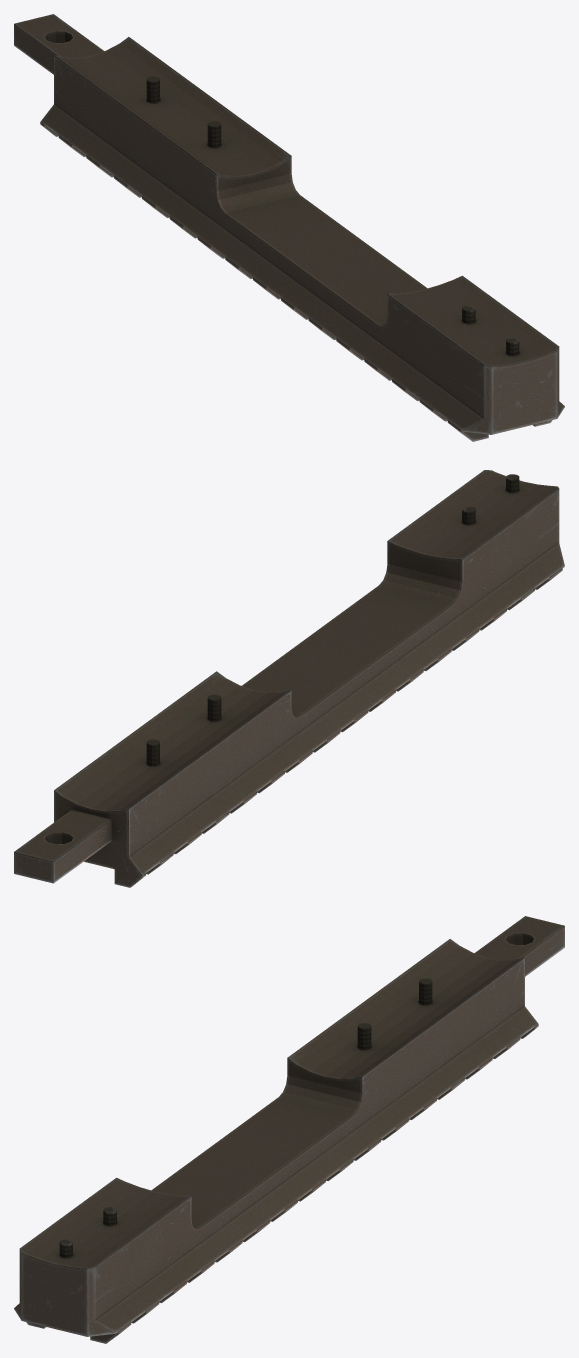
3 renders of one model, top to bottom at view 1: azimuth 30°, elevation 25°; view 2: azimuth 150°, elevation 25°; view 3: azimuth 330°, elevation 25°, orthographic.
Parts seen in each view (by area): view 1: TW_5cde7b43d7f00c000d36b93e_PZ_Import; view 2: TW_5cde7b43d7f00c000d36b93e_PZ_Import; view 3: TW_5cde7b43d7f00c000d36b93e_PZ_Import.
Boxes of the visible parts, box(x1,y1,x2,y2) form: TW_5cde7b43d7f00c000d36b93e_PZ_Import: box(14, 14, 564, 441); TW_5cde7b43d7f00c000d36b93e_PZ_Import: box(14, 470, 564, 887); TW_5cde7b43d7f00c000d36b93e_PZ_Import: box(14, 916, 564, 1343).
Size of the model in its own units: 0.0122 by 0.102 by 0.0107.
1 material, 1 textured.
